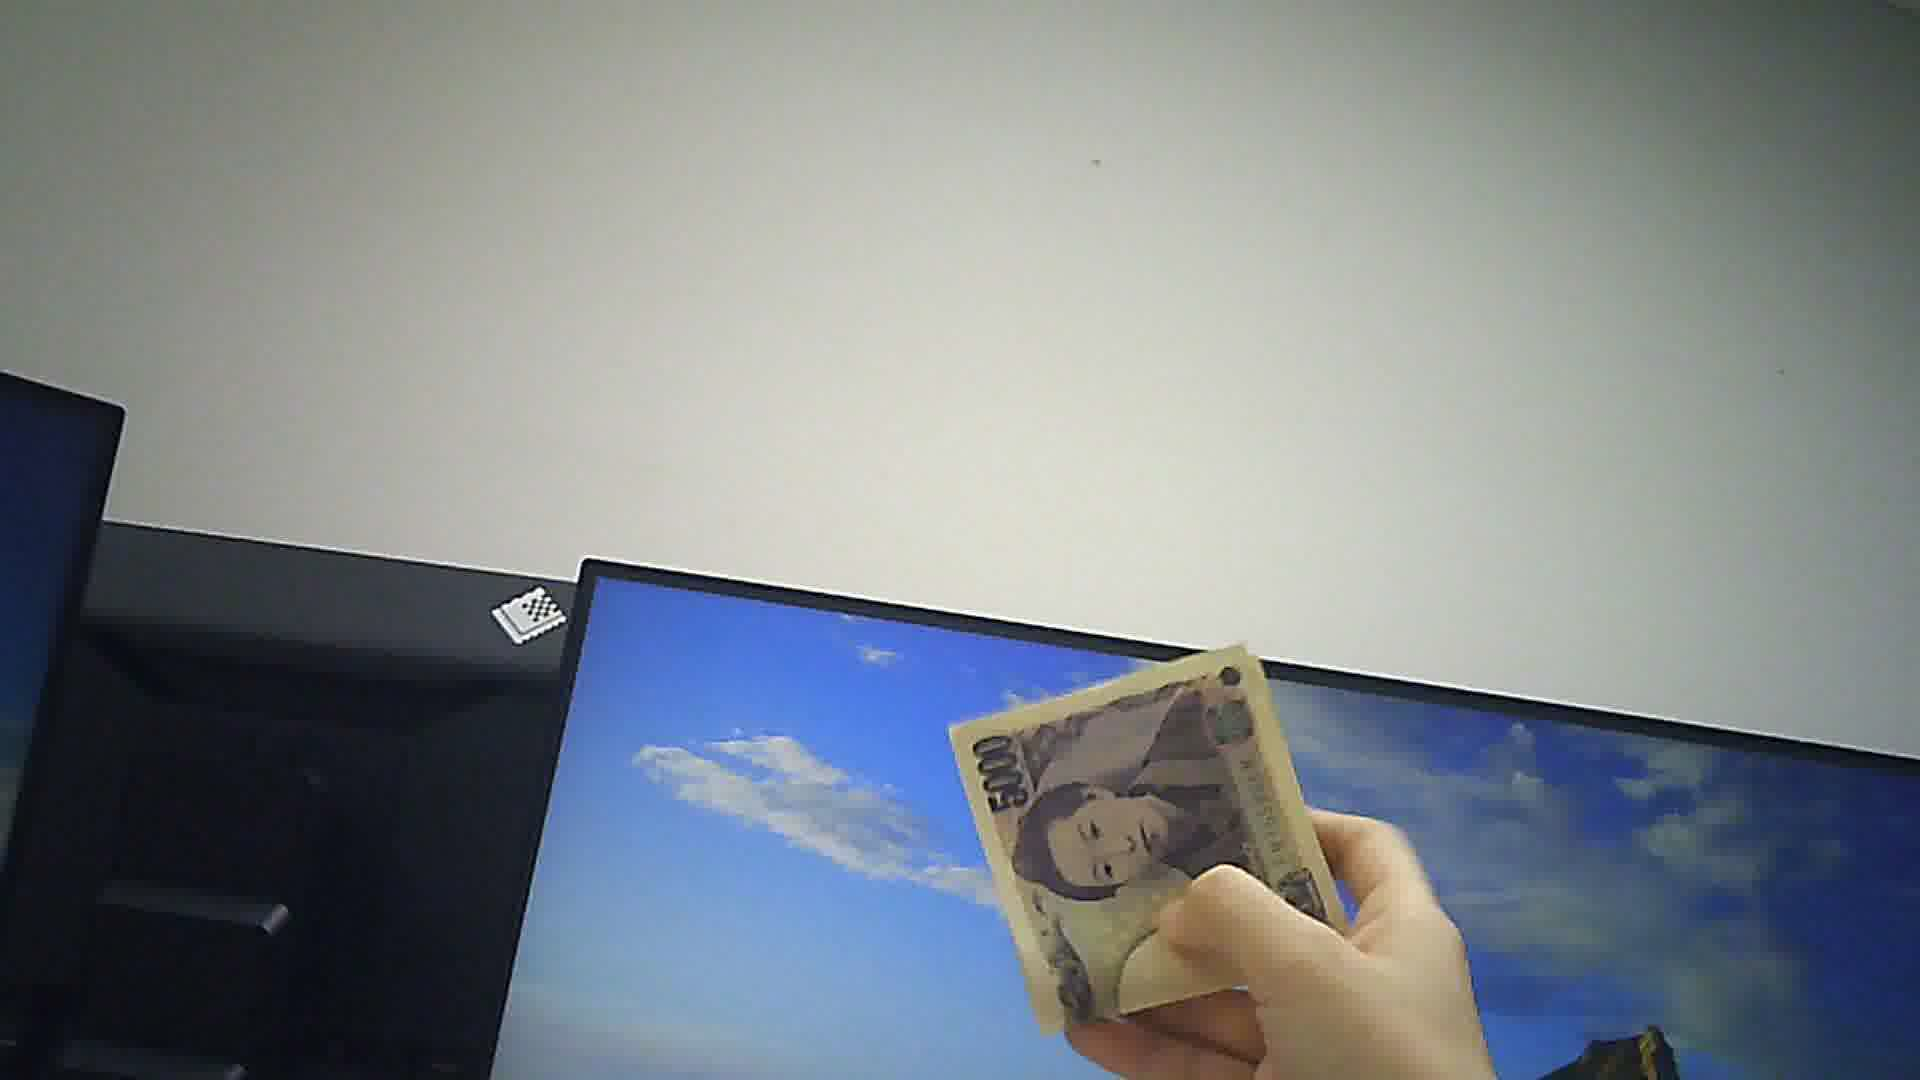5,000 Yen: (934, 636, 1357, 1029)
